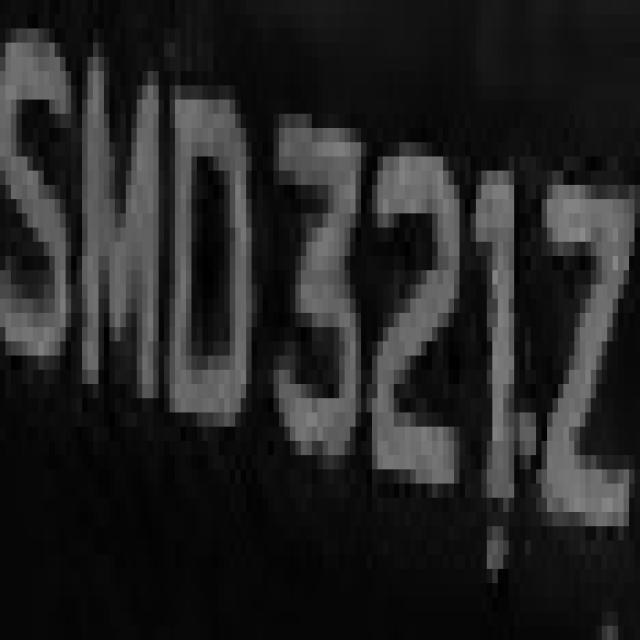1: (460, 142, 520, 512)
2: (356, 71, 470, 526)
3: (262, 57, 366, 526)
D: (164, 57, 263, 498)
M: (71, 14, 164, 470)
S: (5, 0, 76, 427)
Z: (536, 100, 624, 583)
